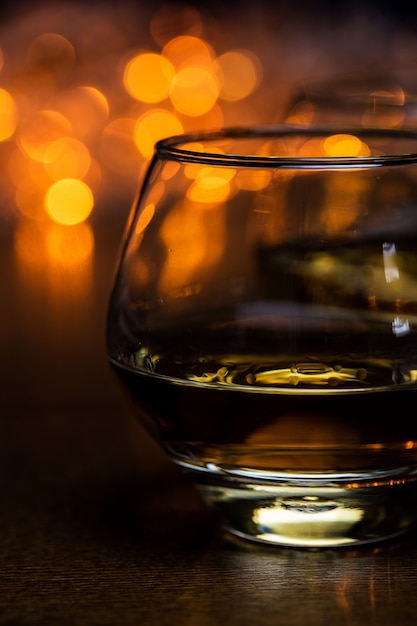alcohol: (114, 128, 417, 552)
